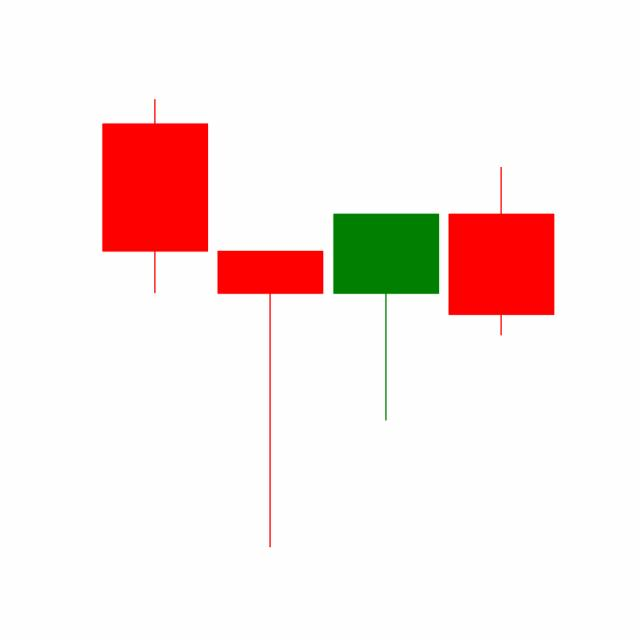Hanging Man: (328, 210, 444, 422)
